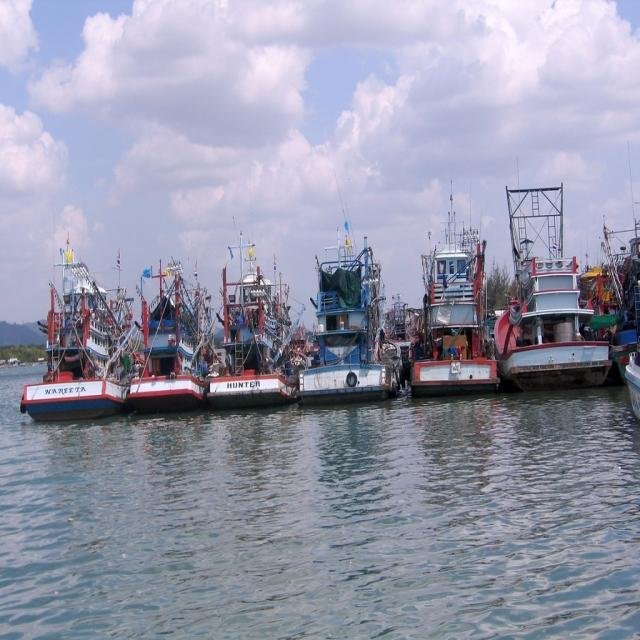boat: (502, 211, 614, 388), (17, 270, 121, 418), (293, 255, 393, 406), (408, 232, 499, 394), (121, 282, 208, 412), (210, 274, 292, 410)
